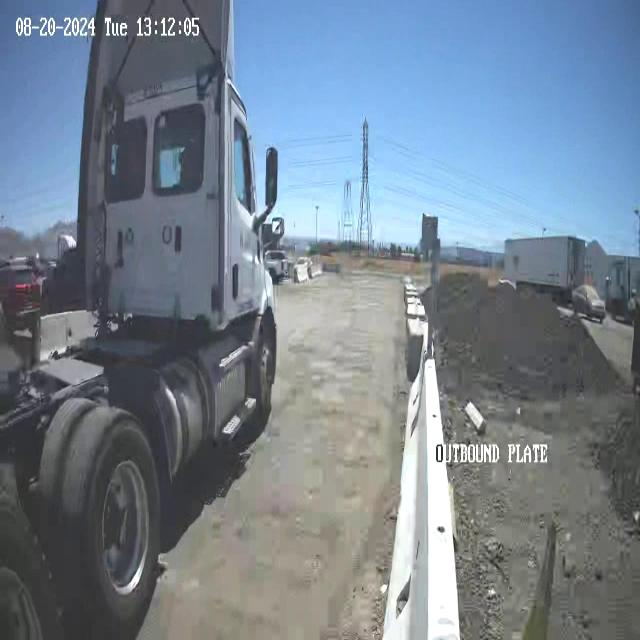BOBTAIL: (2, 1, 284, 637)
